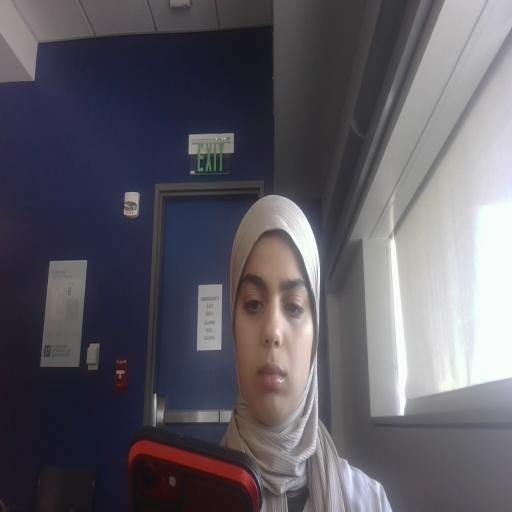phone: (113, 424, 275, 512)
